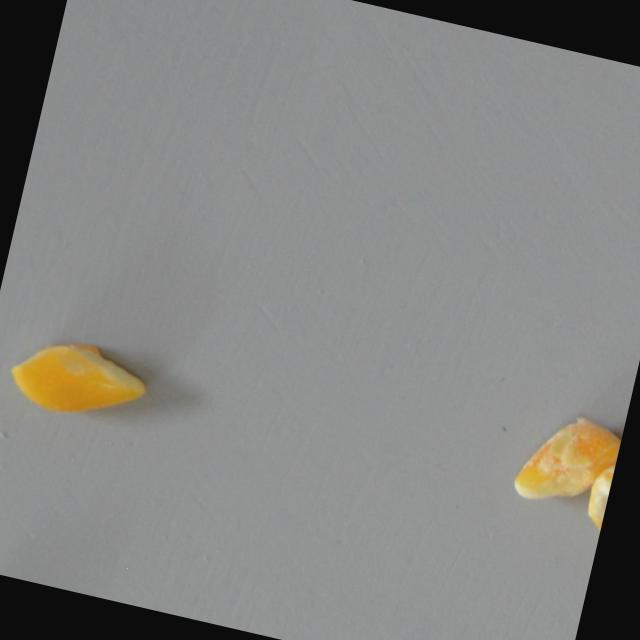estandar: (4, 329, 156, 436)
pelicula: (511, 387, 628, 530), (573, 432, 621, 560)
